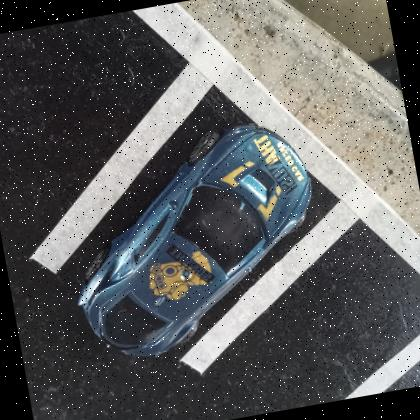Car: (78, 124, 311, 356)
